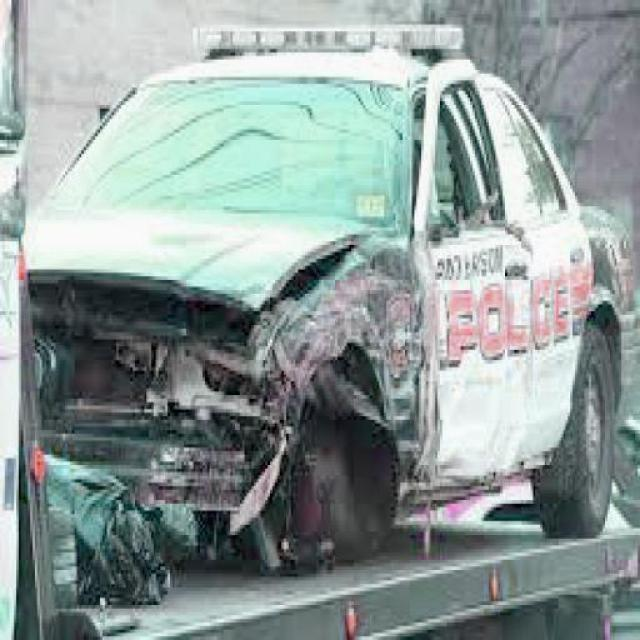Car-Damage: (30, 224, 527, 522)
